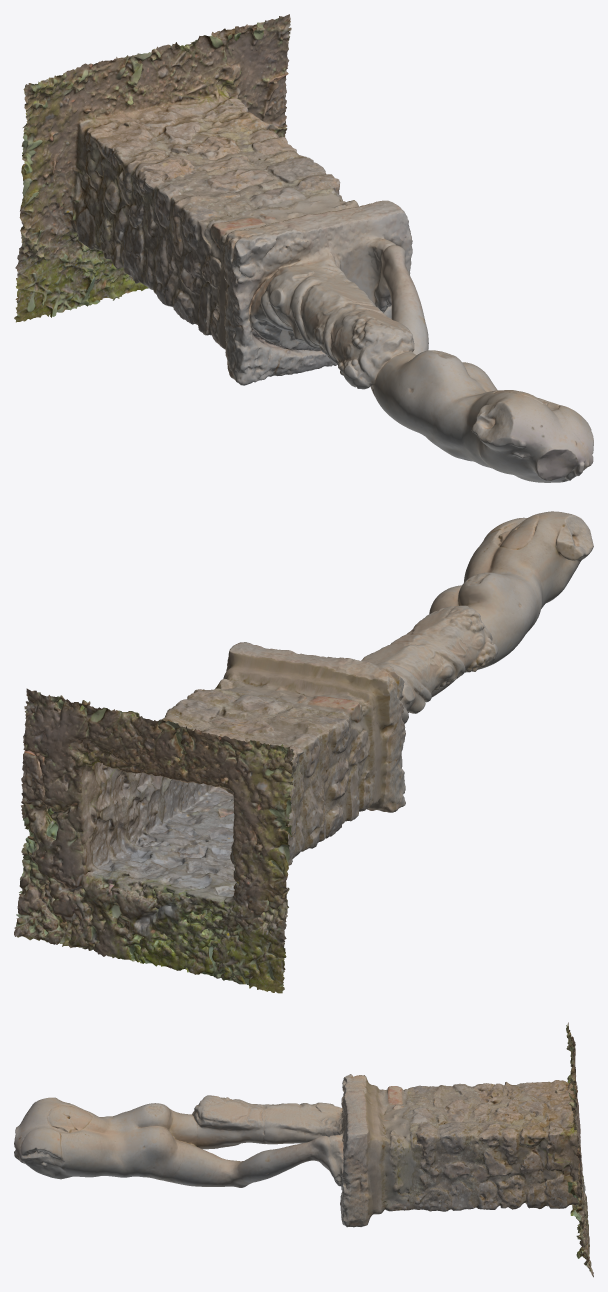
Rendered from bacco.obj.
3 views of the same model, one above another, from view 1: azimuth 30°, elevation 25°; view 2: azimuth 150°, elevation 25°; view 3: azimuth 270°, elevation 25° (orthographic). The views are drawn at different scales.
Size of the model in its own units: 17.55 by 15.28 by 47.19.
Materials: 1 (1 with a texture image).
